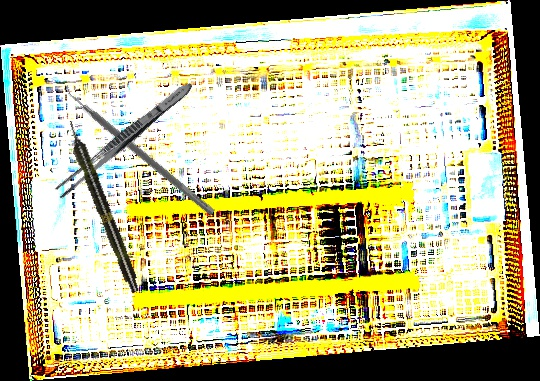Dressing Forceps: (52, 77, 197, 202)
Handpiece: (62, 118, 144, 295)
Spatula Surgical: (59, 81, 221, 217)
